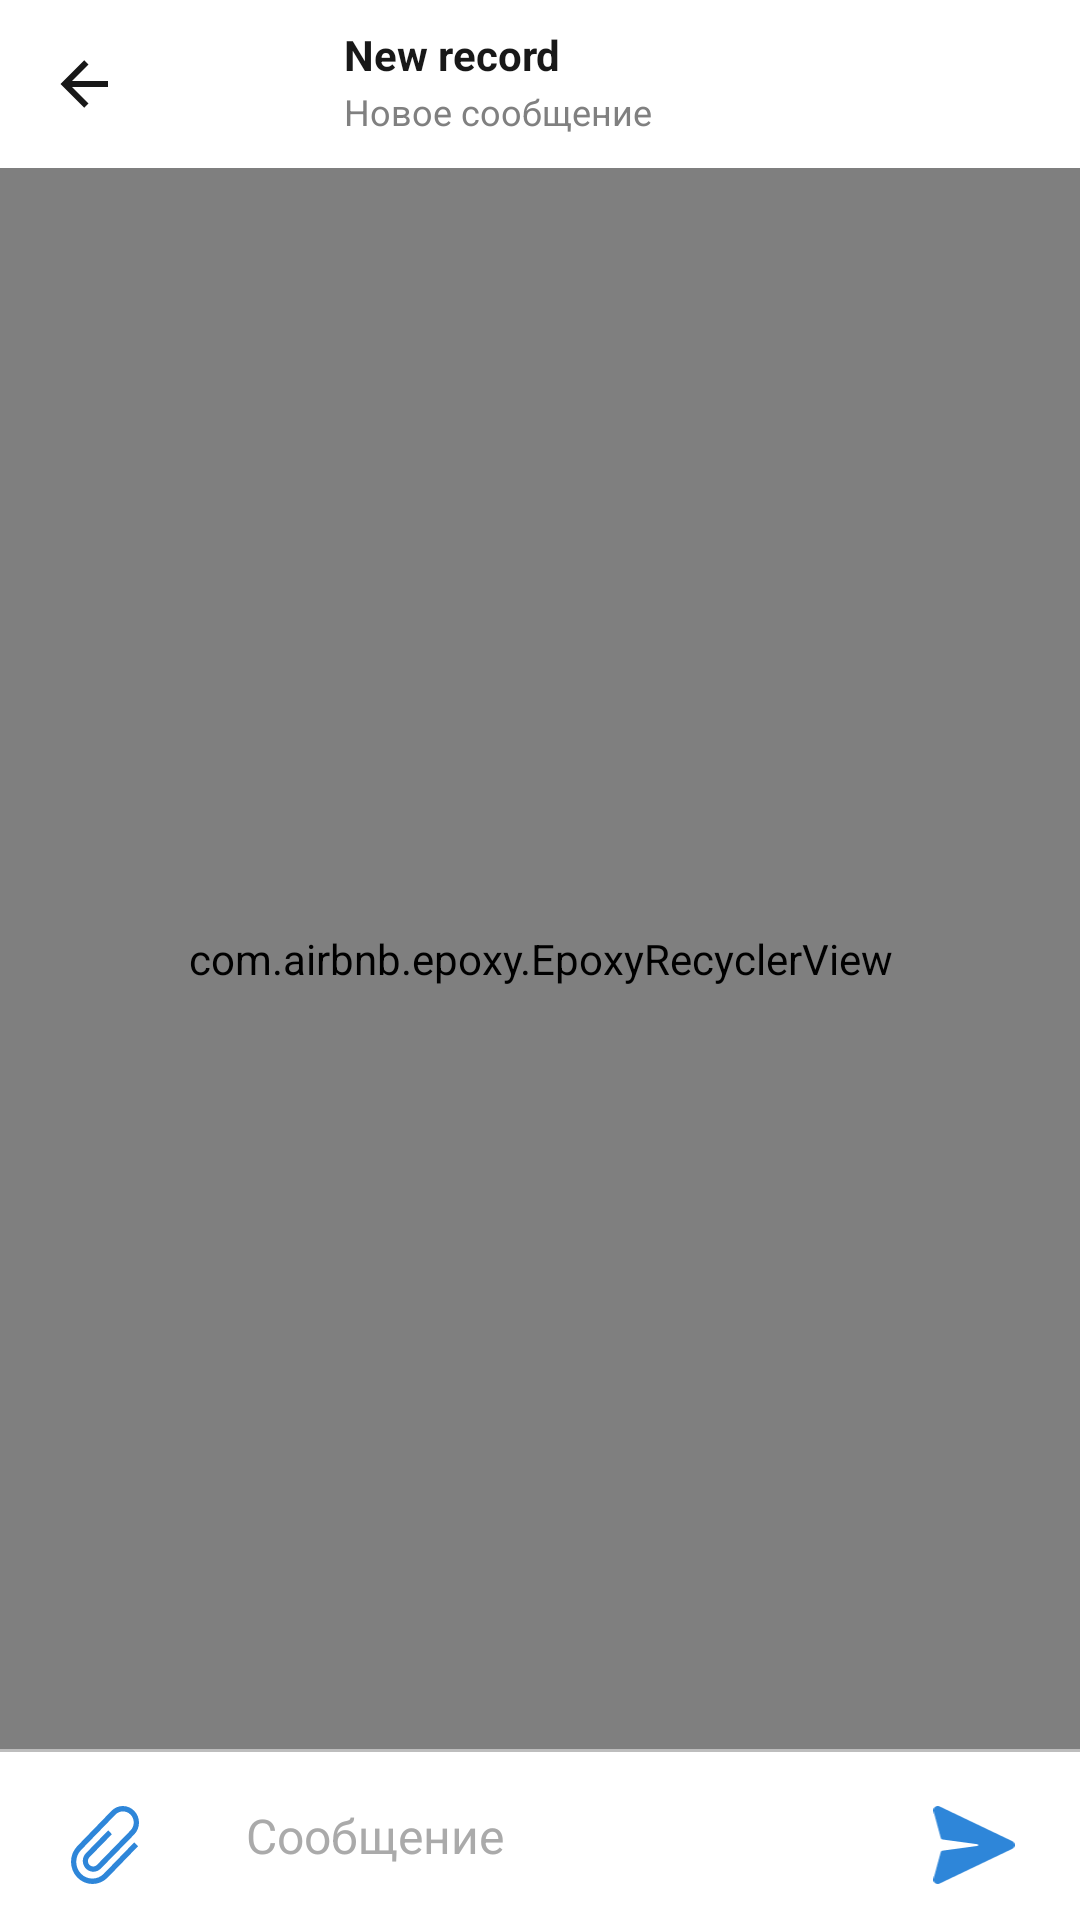

Screen size 1080px x 1920px. Icon name, then its center in pixels as (x=x, y=y):
arrow left: (x=84, y=84)
attachment: (x=105, y=1845)
selectable send: (x=974, y=1845)
